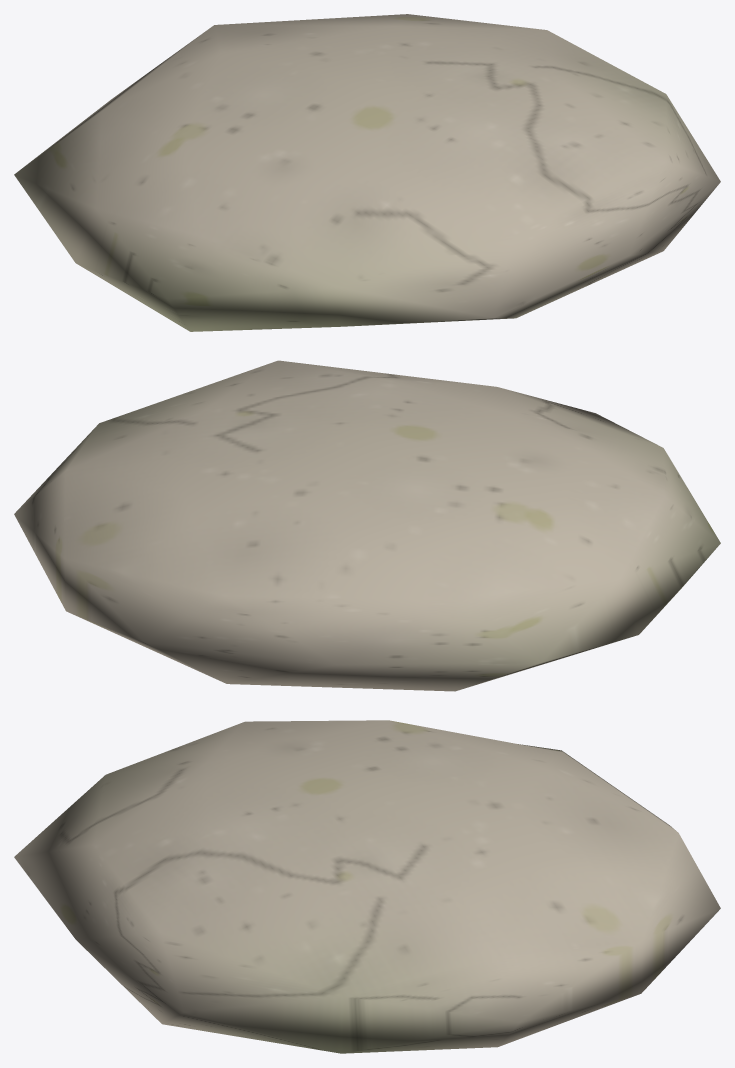
The model's file is region-prop-255.glb.
3 views of the same model, one above another, from view 1: azimuth 30°, elevation 25°; view 2: azimuth 150°, elevation 25°; view 3: azimuth 270°, elevation 25° (orthographic). The views are drawn at different scales.
Visible parts, largest first — view 1: props_rock_0; view 2: props_rock_0; view 3: props_rock_0.
Boxes of the visible parts, <box> form: props_rock_0: <box>14,14,720,331</box>; props_rock_0: <box>14,360,720,691</box>; props_rock_0: <box>14,720,720,1053</box>.
Size of the model in its own units: 0.5944 by 0.1774 by 0.6233.
1 material, 1 textured.
